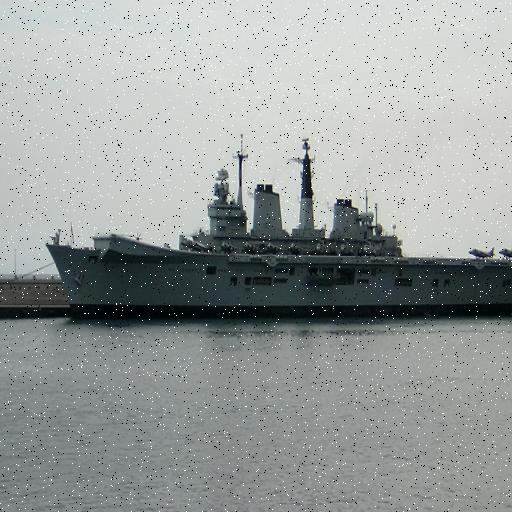Portanaves: (41, 125, 512, 330)
